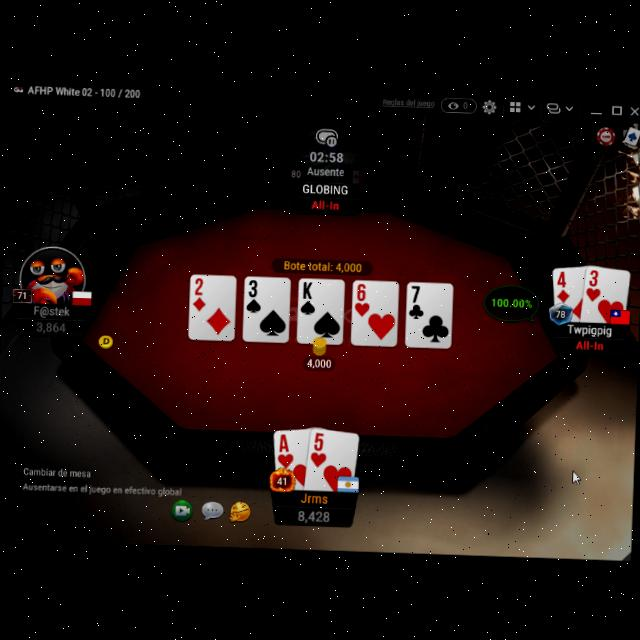2d: (191, 276, 209, 312)
3h: (584, 266, 603, 303)
3s: (245, 278, 263, 316)
4d: (554, 268, 572, 304)
5h: (309, 429, 328, 469)
6h: (352, 282, 370, 318)
7c: (407, 284, 426, 321)
Ah: (275, 431, 296, 471)
Ks: (298, 280, 316, 317)
all_in_symbol: (574, 338, 605, 352), (310, 196, 340, 210)
bet_text: (306, 356, 332, 368)
dealer: (96, 332, 114, 349)
pot_text: (283, 258, 363, 272)
stack_text: (294, 506, 332, 524), (34, 318, 68, 334)
